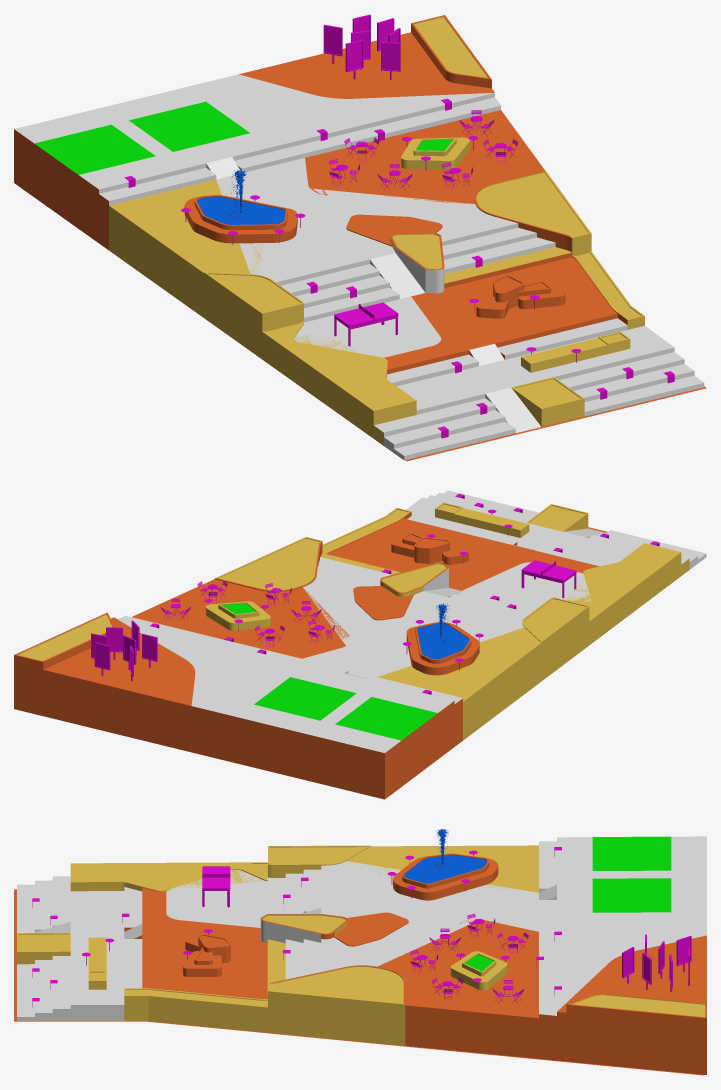
The model's file is Groen geschets_updated.fbx.
The picture shows the model from 3 angles, top to bottom: view 1: azimuth 30°, elevation 25°; view 2: azimuth 150°, elevation 25°; view 3: azimuth 270°, elevation 25°; orthographic projection. The views are drawn at different scales.
Parts seen in each view (by area): view 1: Object; view 2: Object; view 3: Object.
Boxes of the visible parts, x1,y1,x2,y2 form: Object: (14,14,706,461); Object: (14,490,706,799); Object: (14,828,706,1075).
Size of the model in its own units: 2515 by 556 by 3868.
